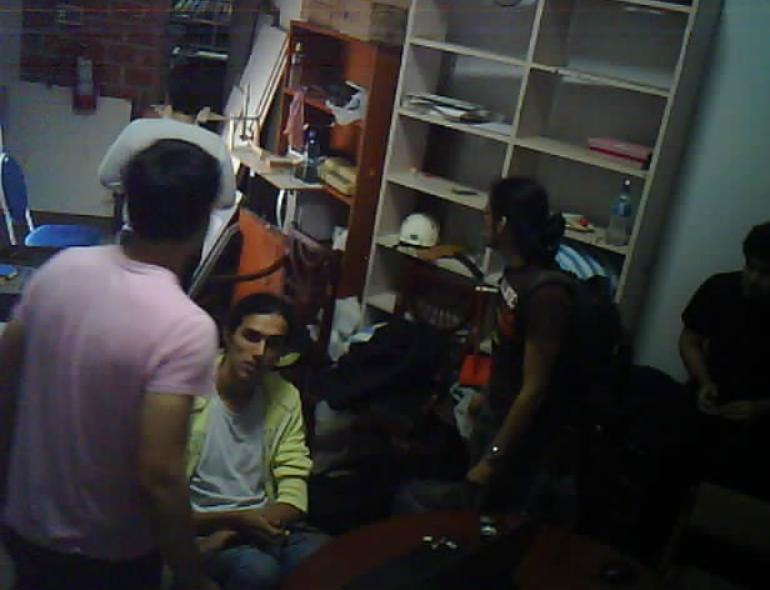person: (0, 144, 235, 590), (447, 160, 634, 540), (167, 295, 347, 590), (662, 190, 770, 498), (92, 48, 253, 214)
